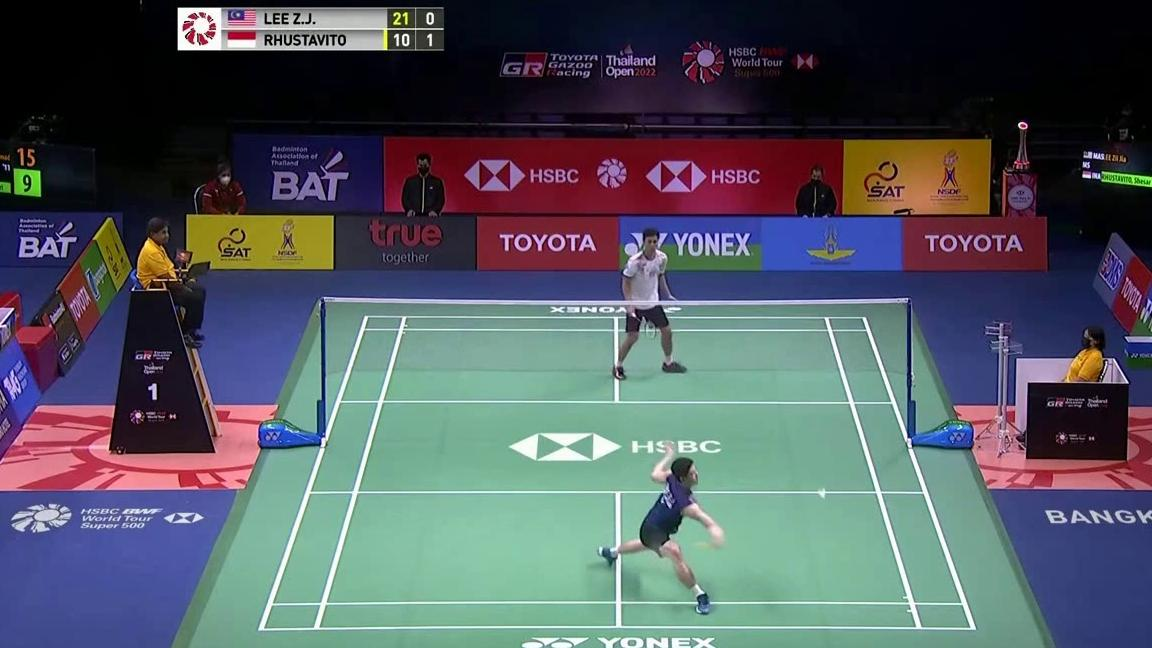racket: (628, 310, 656, 339)
shuttle: (818, 487, 826, 498)
